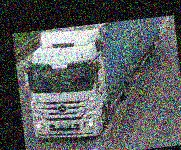truck: (19, 18, 172, 144)
